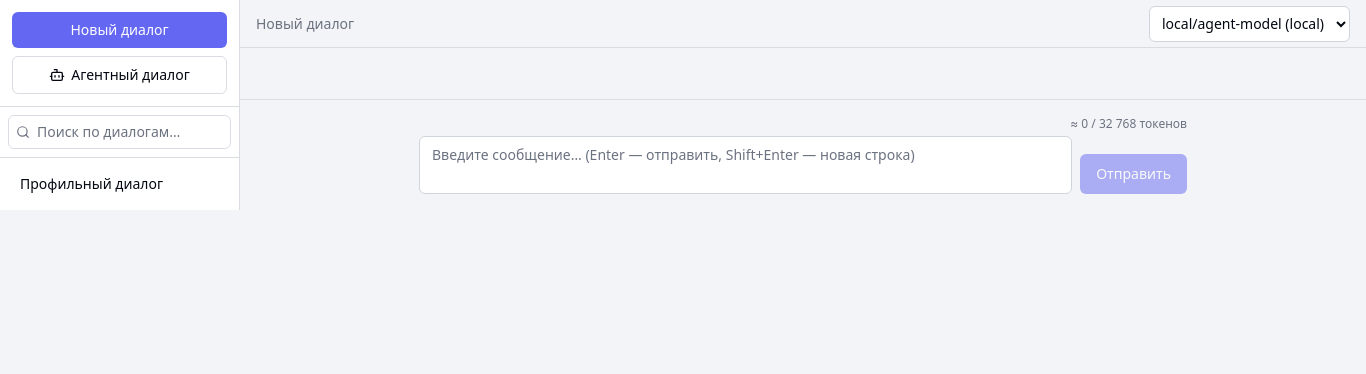
Test case: Т-509: профиль агента и остановка прогона в ChatPage › решение 7: остановка во время прогона ставит флаг на сервере
The image size is (1366, 374).
Click the button "Профильный диалог" at (106, 184), box [8, 166, 205, 202]
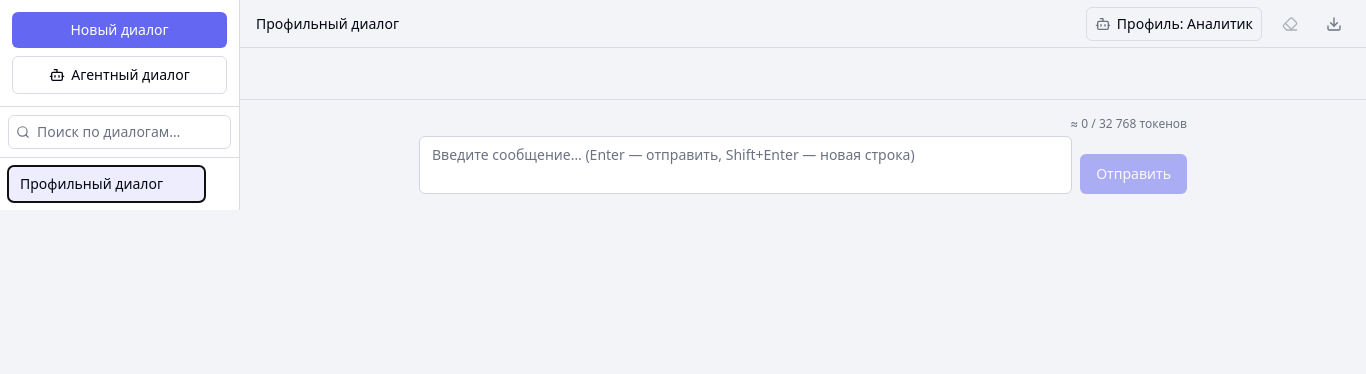
Type "Долгий вопрос" into the text box with placeholder "Введите сообщение" at (746, 165), box [419, 136, 1072, 194]
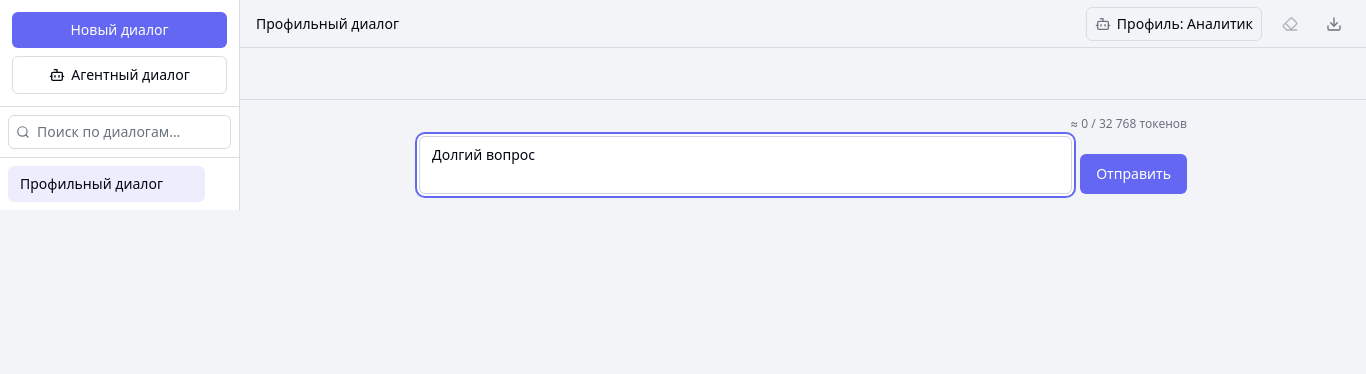
Now the button "Отправить" is enabled
Click the button "Отправить" at (1134, 174), box [1080, 154, 1187, 194]
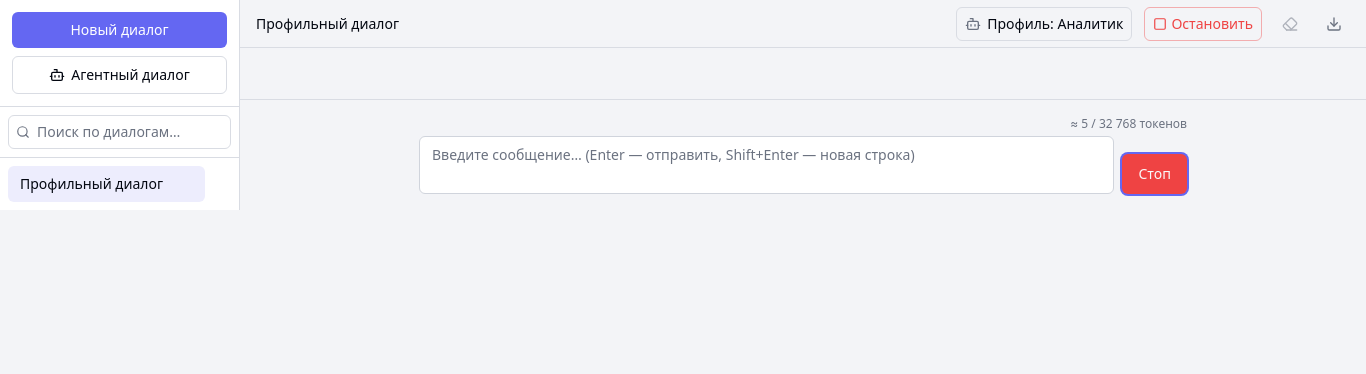
Click the button with test id "agent-stop" at (1203, 24), box [1144, 6, 1262, 40]
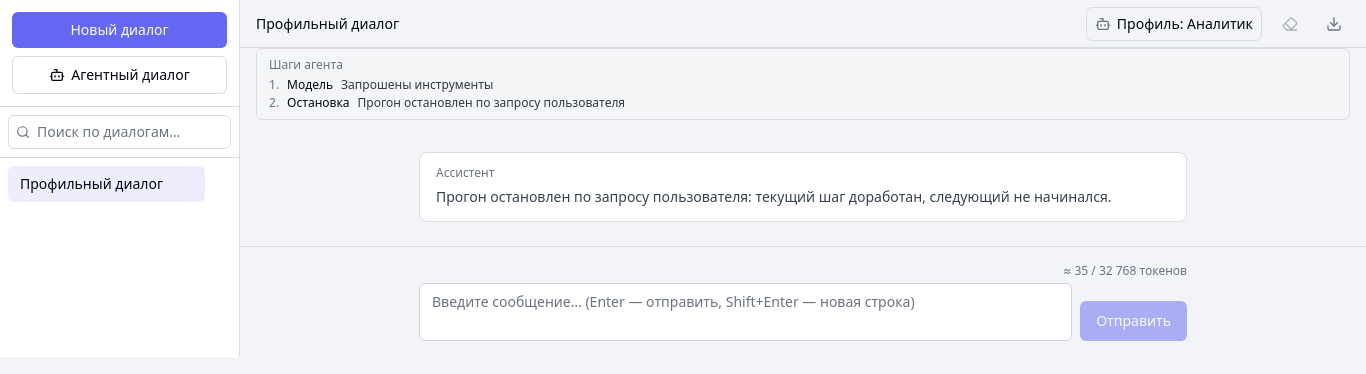
Now the element with test id "agent-run-summary" is shown, box [256, 48, 1350, 120]
Now the element with test id "agent-run-summary" shows "Остановка", box [287, 94, 350, 111]
Now the text "Прогон остановлен по запросу пользователя" is shown, box [358, 95, 625, 111]
